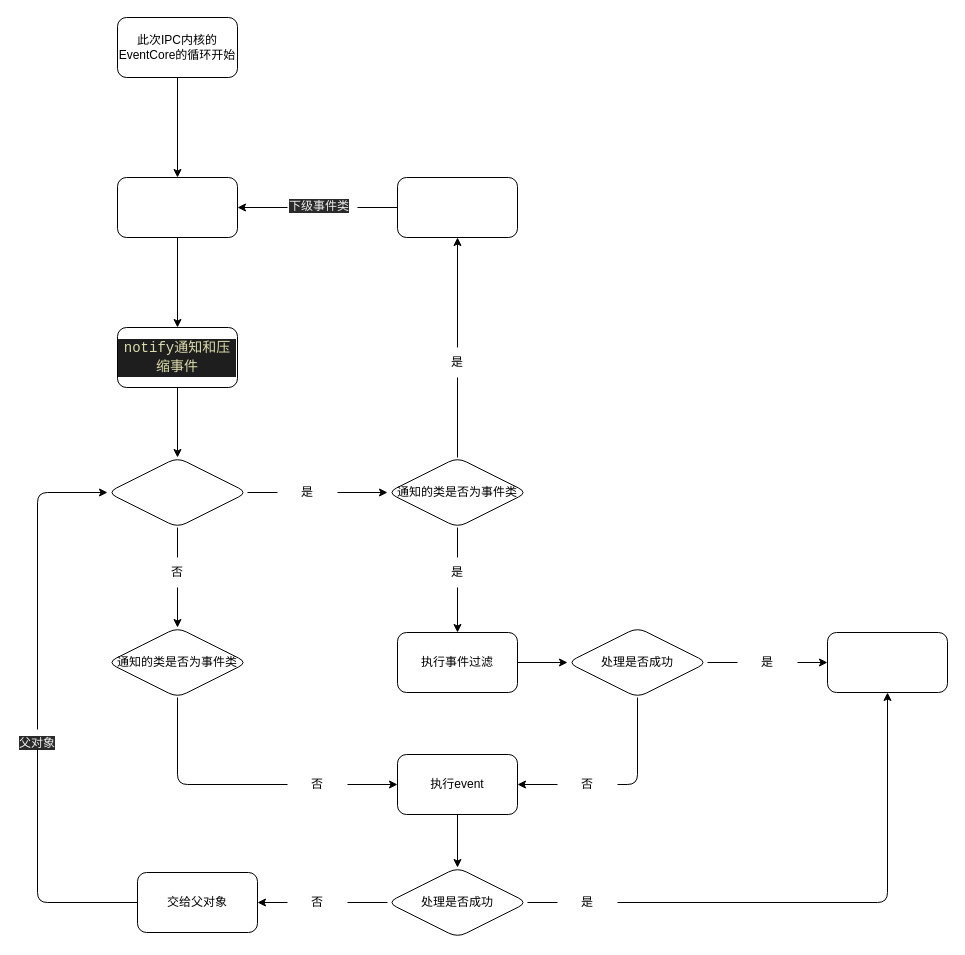
The diagram is 965 pixels wide and 955 high, and some of its shapes have lost their labels. The box of each missing label's shape, as (x1, y1, x2, y2) in pixels:
交由下级事件类处理: (396, 176, 518, 238)
是否有事件过滤: (106, 456, 248, 528)
结束: (826, 632, 948, 692)
获取事件组事件: (116, 176, 238, 238)
